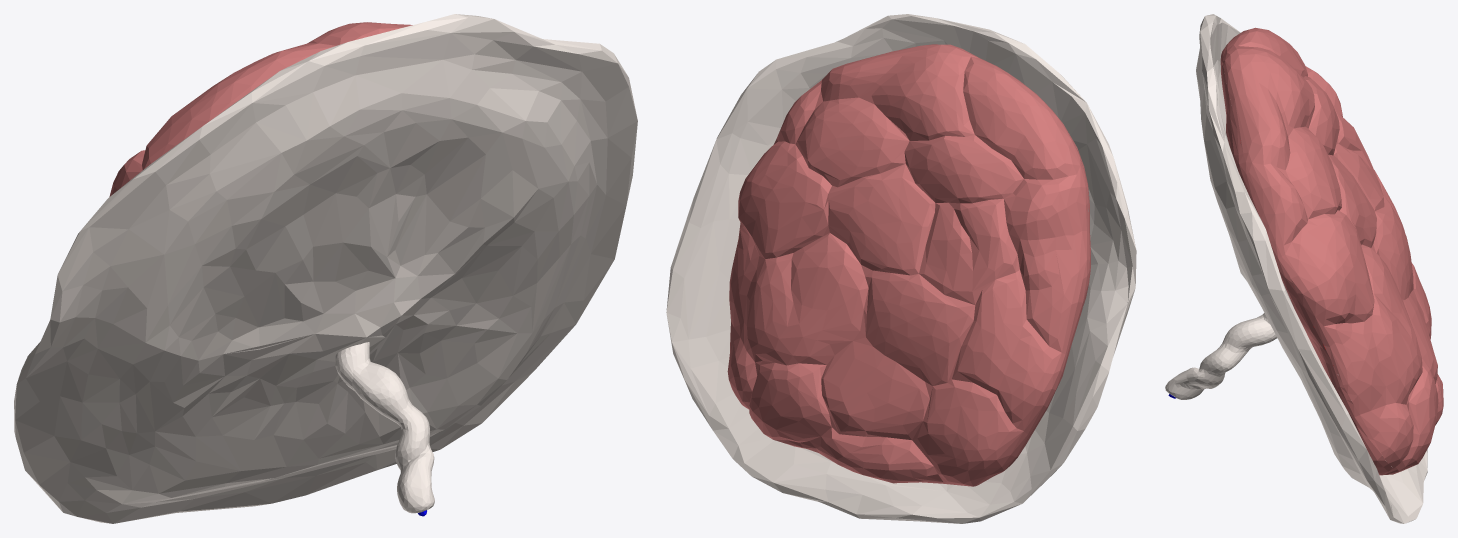
The model's file is VH_F_Placenta_0.1.glb.
3 renders of one model, left to right at view 1: azimuth 30°, elevation 25°; view 2: azimuth 150°, elevation 25°; view 3: azimuth 270°, elevation 25°, orthographic. The views are drawn at different scales.
Parts seen in each view (by area): view 1: VH_F_amnion, VH_F_basal_plate, VH_F_umbilical_cord; view 2: VH_F_basal_plate, VH_F_amnion; view 3: VH_F_basal_plate, VH_F_amnion, VH_F_chorionic_plate, VH_F_umbilical_cord.
Part boxes in pixels (left/top/right/bottom): VH_F_amnion: left=14, top=14, right=637, bottom=523; VH_F_basal_plate: left=109, top=22, right=412, bottom=196; VH_F_umbilical_cord: left=335, top=342, right=434, bottom=513; VH_F_basal_plate: left=727, top=44, right=1089, bottom=486; VH_F_amnion: left=666, top=14, right=1136, bottom=523; VH_F_basal_plate: left=1223, top=27, right=1443, bottom=471; VH_F_amnion: left=1196, top=14, right=1427, bottom=523; VH_F_chorionic_plate: left=1220, top=46, right=1400, bottom=475; VH_F_umbilical_cord: left=1165, top=313, right=1276, bottom=399.
Size of the model in its own units: 0.252 by 0.2313 by 0.1338.
